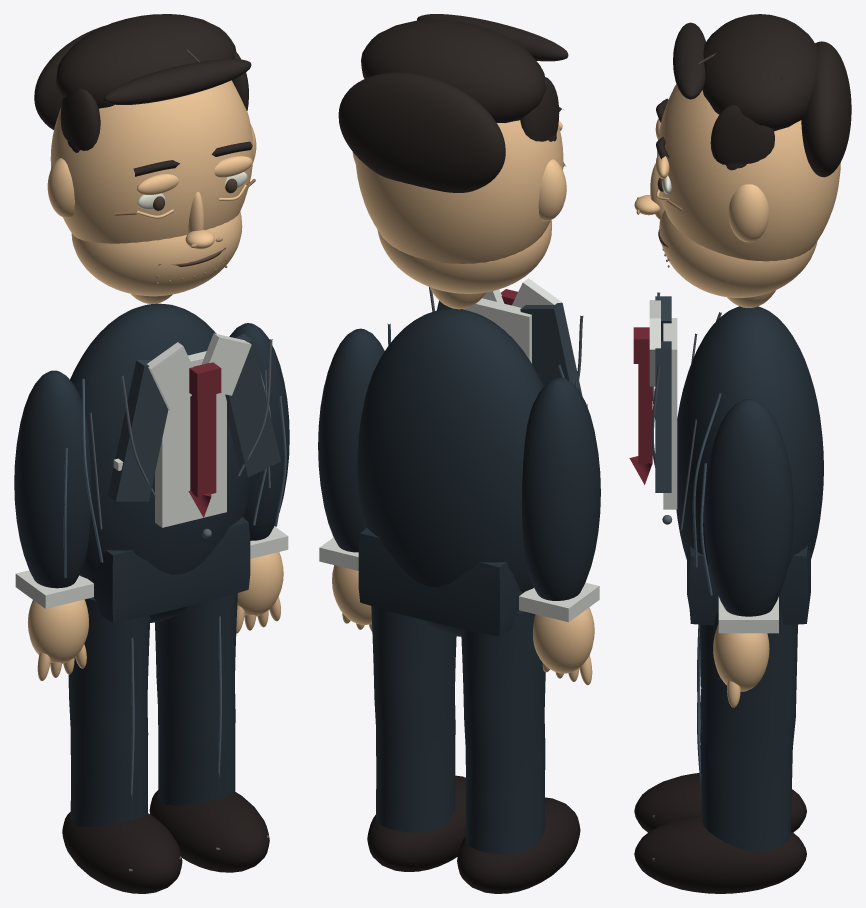
File: Gareth Williams.glb
The picture shows the model from 3 angles, left to right: view 1: azimuth 30°, elevation 25°; view 2: azimuth 150°, elevation 25°; view 3: azimuth 270°, elevation 25°; orthographic projection. The views are drawn at different scales.
Parts seen in each view (by area): view 1: Torso, Head, LeftLeg, RightLeg, LeftArm, Buzz cut, RightArm, Tailored side seam; view 2: Torso, Buzz cut, LeftLeg, Head, RightLeg, LeftArm, RightArm; view 3: Torso, Head, RightLeg, Buzz cut, RightArm, LeftLeg, Tailored side seam, Sleeve seam, Trouser crease.
Boxes of the visible parts, left/top/right/bottom form: Torso: left=70, top=303, right=280, bottom=622; Head: left=47, top=80, right=256, bottom=303; LeftLeg: left=62, top=597, right=182, bottom=893; RightLeg: left=149, top=593, right=269, bottom=872; LeftArm: left=14, top=370, right=93, bottom=663; Buzz cut: left=34, top=14, right=251, bottom=152; RightArm: left=229, top=323, right=289, bottom=616; Tailored side seam: left=82, top=378, right=103, bottom=562; Torso: left=357, top=278, right=587, bottom=636; Buzz cut: left=338, top=14, right=568, bottom=192; LeftLeg: left=457, top=610, right=580, bottom=893; Head: left=352, top=107, right=566, bottom=309; RightLeg: left=367, top=606, right=465, bottom=871; LeftArm: left=519, top=377, right=600, bottom=673; RightArm: left=318, top=328, right=384, bottom=624; Torso: left=629, top=292, right=823, bottom=625; Head: left=634, top=84, right=840, bottom=307; RightLeg: left=634, top=612, right=806, bottom=893; Buzz cut: left=673, top=14, right=851, bottom=177; RightArm: left=703, top=399, right=793, bottom=691; LeftLeg: left=634, top=689, right=806, bottom=832; Tailored side seam: left=692, top=393, right=721, bottom=567; Sleeve seam: left=700, top=463, right=712, bottom=595; Trouser crease: left=697, top=636, right=701, bottom=798.
Bounding box in the file's own units: 0.81 × 2.46 × 0.5915.
